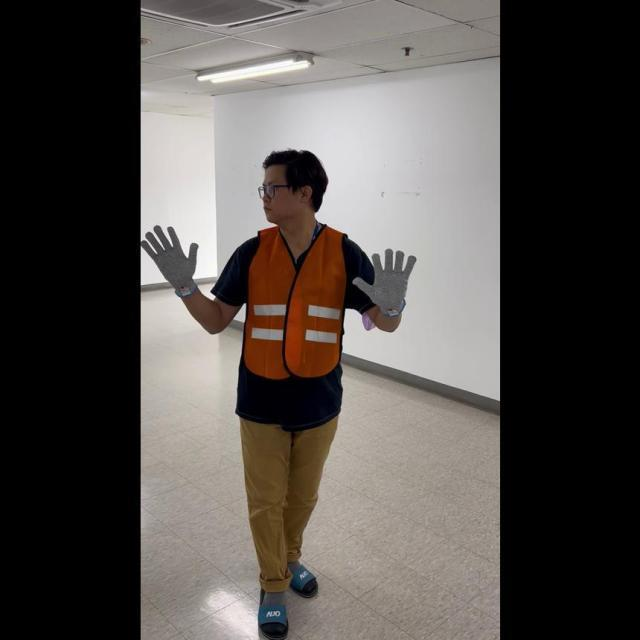gloved_hand: (351, 243, 415, 315), (141, 220, 200, 294)
